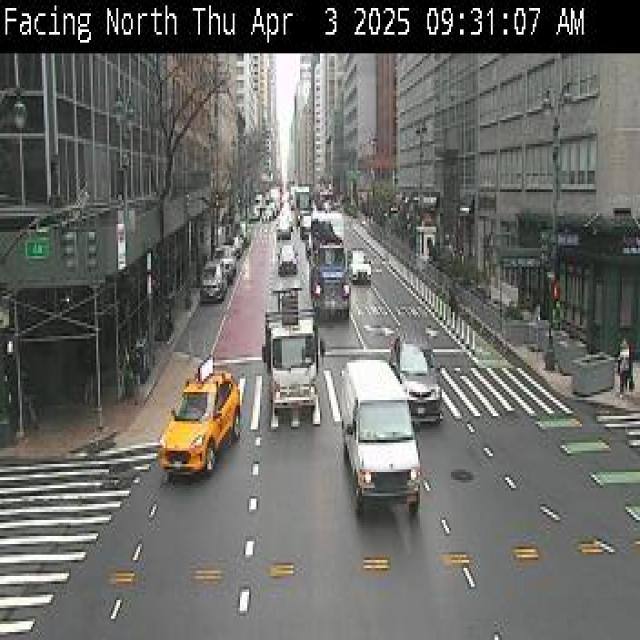open parking: (182, 187, 253, 393)
